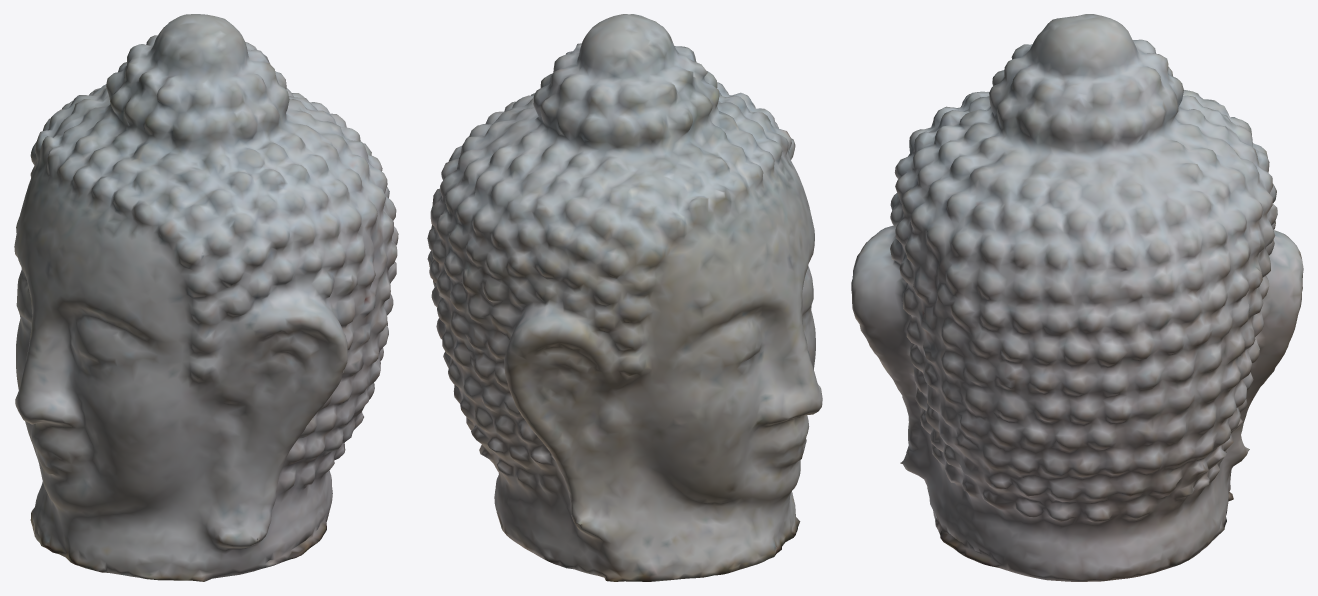
File: buddha_head.glb
The picture shows the model from 3 angles, left to right: view 1: azimuth 30°, elevation 25°; view 2: azimuth 150°, elevation 25°; view 3: azimuth 270°, elevation 25°; orthographic projection. The views are drawn at different scales.
Visible parts, largest first — view 1: geometry_0; view 2: geometry_0; view 3: geometry_0.
Boxes of the visible parts, x1=… form: geometry_0: x1=14, y1=14, x2=398, y2=581; geometry_0: x1=427, y1=14, x2=822, y2=581; geometry_0: x1=851, y1=14, x2=1303, y2=581.
Size of the model in its own units: 0.1515 by 0.1999 by 0.1616.
